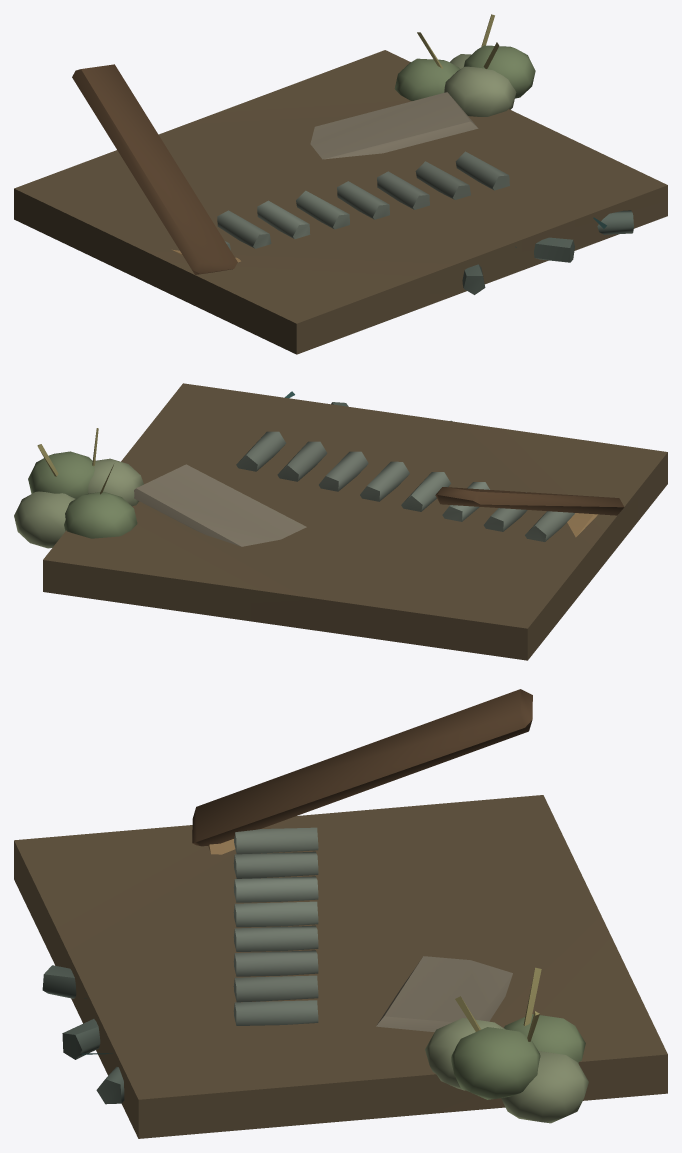
Rendered from core_trays_b_lod1.glb.
3 views of the same model, one above another, from view 1: azimuth 30°, elevation 25°; view 2: azimuth 150°, elevation 25°; view 3: azimuth 270°, elevation 25° (orthographic). The views are drawn at different scales.
Parts seen in each view (by area): view 1: Surface.001; view 2: Surface.001; view 3: Surface.001.
Part boxes in pixels (bbox=[...]): Surface.001: bbox=[14, 14, 667, 354]; Surface.001: bbox=[14, 383, 667, 660]; Surface.001: bbox=[14, 689, 667, 1138].
Size of the model in its own units: 3.36 by 0.9431 by 3.03.
